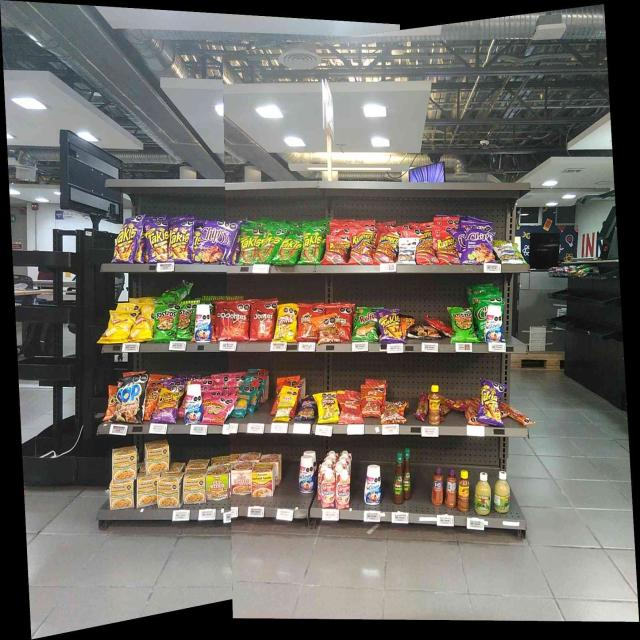bitzEnchilado90: (362, 386, 382, 416), (340, 395, 360, 423)
bitzEnchilado95: (504, 402, 532, 427)
bitzHabanero: (441, 396, 466, 413), (416, 392, 427, 420)
bokadosCacahuates: (300, 398, 315, 419)
botaneraChilito: (458, 470, 470, 512), (430, 384, 440, 424)
cheetosFlaminHot: (159, 385, 177, 421)
chipsFuego: (466, 228, 493, 262), (202, 222, 224, 262)
churrumais: (206, 397, 228, 423)
delPrimoSalsa: (494, 471, 510, 512), (474, 472, 490, 513)
doritosNacho: (225, 302, 249, 341), (252, 304, 274, 342)
fritosLimon: (277, 306, 295, 341), (318, 394, 337, 422)
leoCacahuates: (399, 240, 416, 264), (499, 244, 517, 264)
leoMix: (319, 316, 337, 342), (384, 401, 405, 423)
maruchanPollo: (144, 440, 170, 472), (159, 475, 182, 507), (112, 448, 135, 479), (109, 482, 134, 509), (184, 471, 205, 503), (136, 478, 156, 506)
maruchanRes: (253, 463, 274, 496)
nestleCarnation: (320, 468, 334, 507), (336, 470, 350, 507)
nestleLechera: (364, 464, 381, 504), (186, 384, 202, 422), (196, 303, 211, 343), (486, 306, 502, 341), (300, 456, 314, 492)
nissinCamaron: (207, 466, 229, 499)
nissinRes: (231, 464, 251, 494)
popKarameladas: (118, 378, 144, 422), (412, 326, 437, 339)
rancheritos: (298, 304, 317, 338), (338, 306, 352, 340)
rufflesQueso: (356, 308, 376, 339)
runners: (352, 228, 372, 263), (436, 227, 454, 264), (328, 233, 348, 265), (377, 235, 396, 262), (417, 231, 432, 263)
sabritasOriginal: (108, 311, 132, 339), (134, 311, 152, 340)
salsaBufalo: (393, 450, 403, 504), (405, 448, 411, 500)
semillasGirasol: (277, 388, 293, 421), (236, 384, 250, 417)
tajinDulce: (431, 466, 443, 505), (446, 468, 456, 508)
takisFuego: (170, 220, 192, 262), (117, 216, 136, 263), (481, 380, 501, 424), (148, 223, 167, 260), (381, 309, 401, 341)
takisOriginal: (303, 226, 321, 264), (260, 226, 278, 262), (241, 225, 258, 263), (280, 233, 300, 264)
tostitos: (154, 303, 176, 339), (452, 308, 473, 342), (178, 303, 194, 339)
